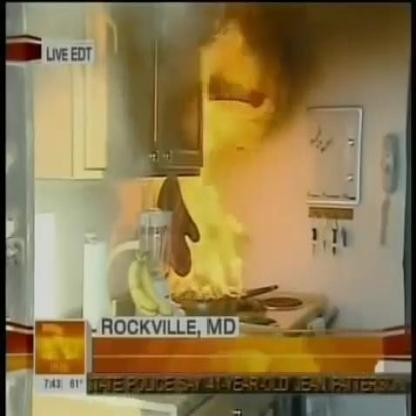fire: (168, 27, 268, 301)
